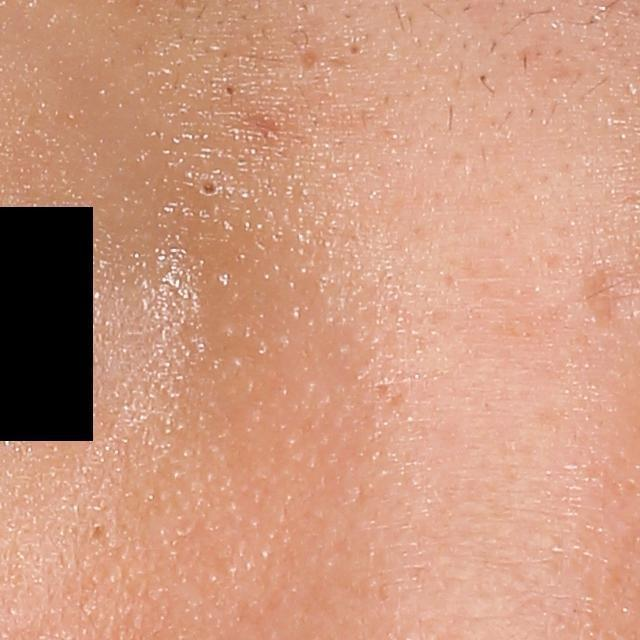atrophic_scar: (298, 48, 318, 74)
comedo: (187, 169, 228, 207), (216, 77, 244, 102), (343, 38, 364, 59)
